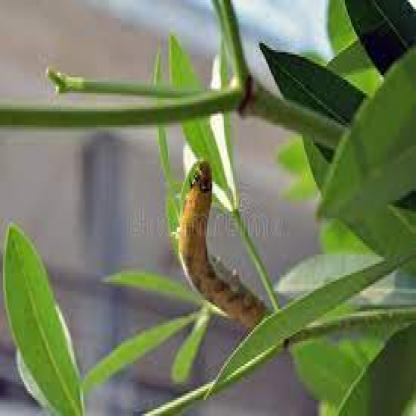sawfly: (181, 160, 287, 340)
